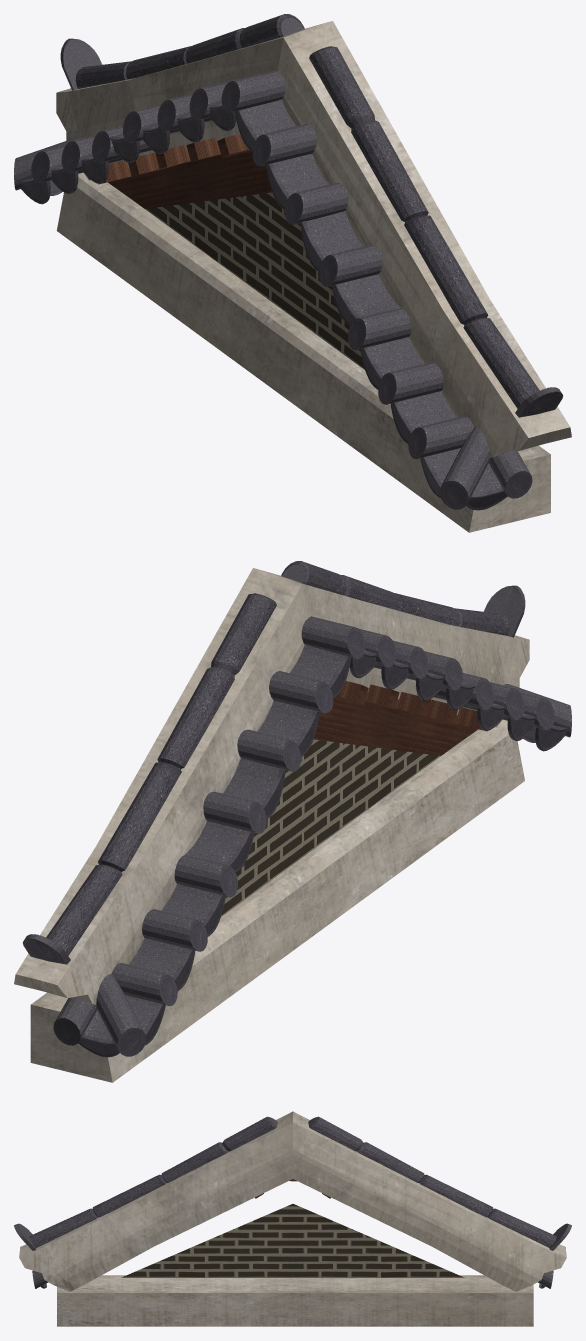
File: SM_R_RoofOuter_25.fbx
The picture shows the model from 3 angles, top to bottom: view 1: azimuth 30°, elevation 25°; view 2: azimuth 150°, elevation 25°; view 3: azimuth 270°, elevation 25°; orthographic projection. The views are drawn at different scales.
Parts seen in each view (by area): view 1: SM_R_RoofOuter_25; view 2: SM_R_RoofOuter_25; view 3: SM_R_RoofOuter_25.
Boxes of the visible parts, bbox=[...] form: SM_R_RoofOuter_25: bbox=[14, 14, 571, 532]; SM_R_RoofOuter_25: bbox=[14, 561, 571, 1082]; SM_R_RoofOuter_25: bbox=[14, 1111, 571, 1326].
Bounding box in the file's own units: 97.92 × 647 × 256.
Materials: 4 (4 with a texture image).
